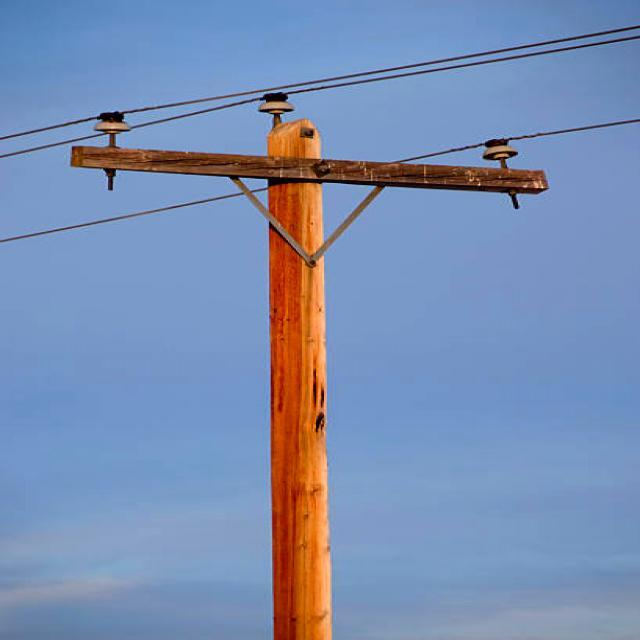crossarm: (69, 112, 549, 277)
pole: (266, 118, 333, 640)
wire: (0, 109, 640, 249), (0, 22, 640, 141)
